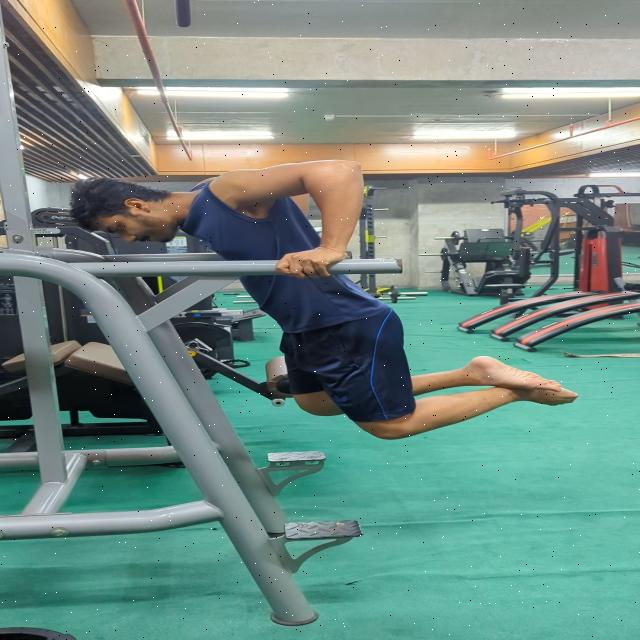Normal_Dips: (68, 155, 584, 447)
